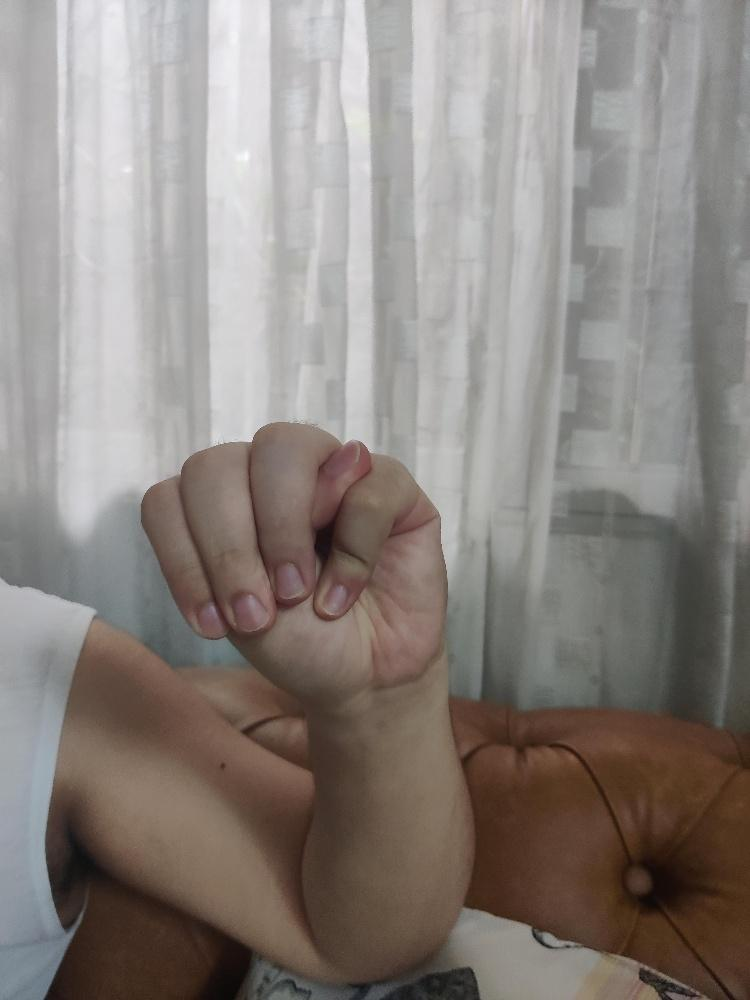m: (136, 416, 450, 695)
